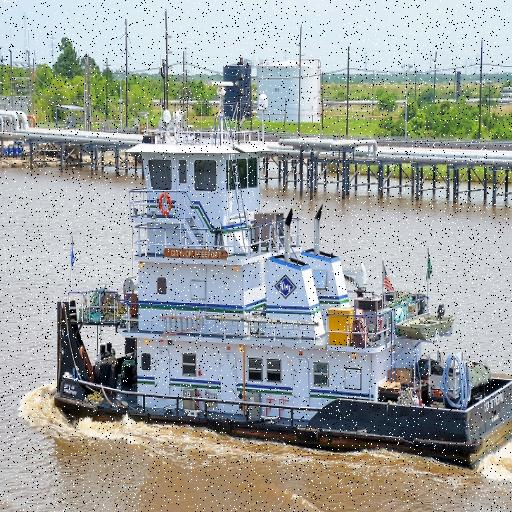tugboat: (45, 76, 512, 487)
